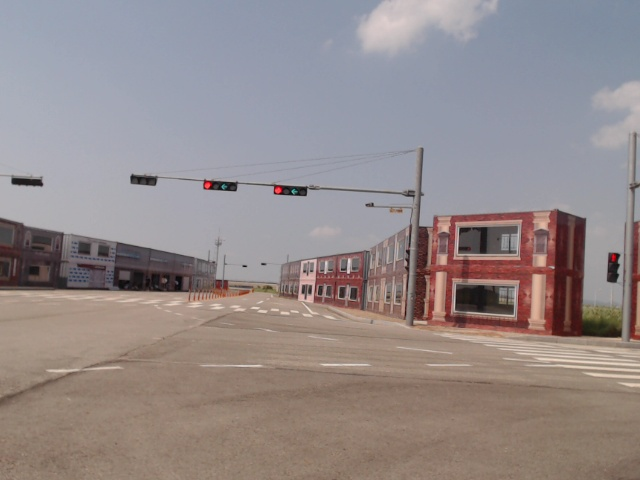left_green_4: (274, 185, 308, 196), (204, 181, 237, 191)
